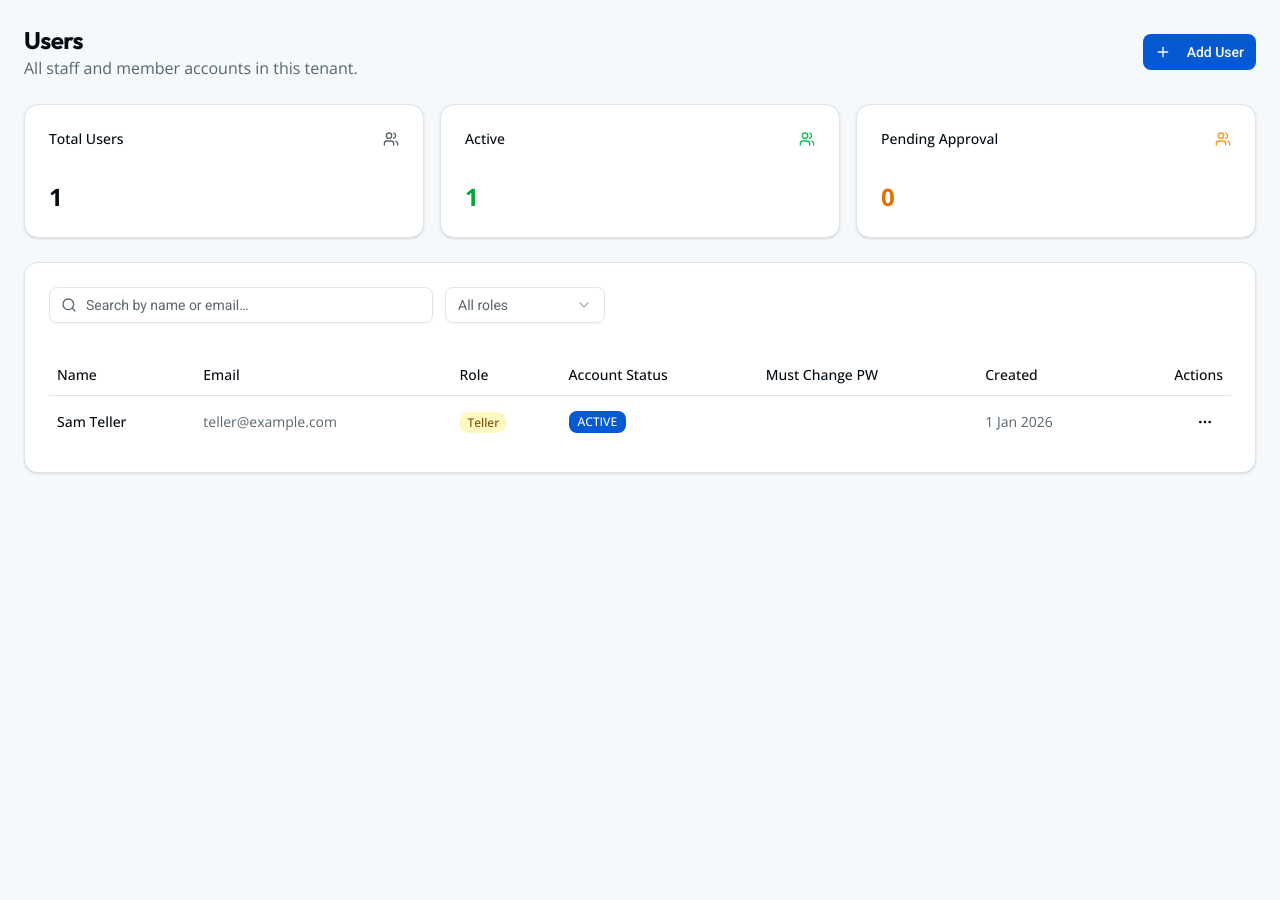
Test: Users page — Reveal Temp Password gating and flow › renders the 'already set their own password' case inline instead of a generic error
The image size is (1280, 900).
expect the text "Sam Teller" is shown: met, box [49,395,195,448]
Press the mouse on the 2nd button: [1205, 422] box [1187,404,1223,440]
Click the 2nd button: [1205, 422] box [1187,404,1223,440]
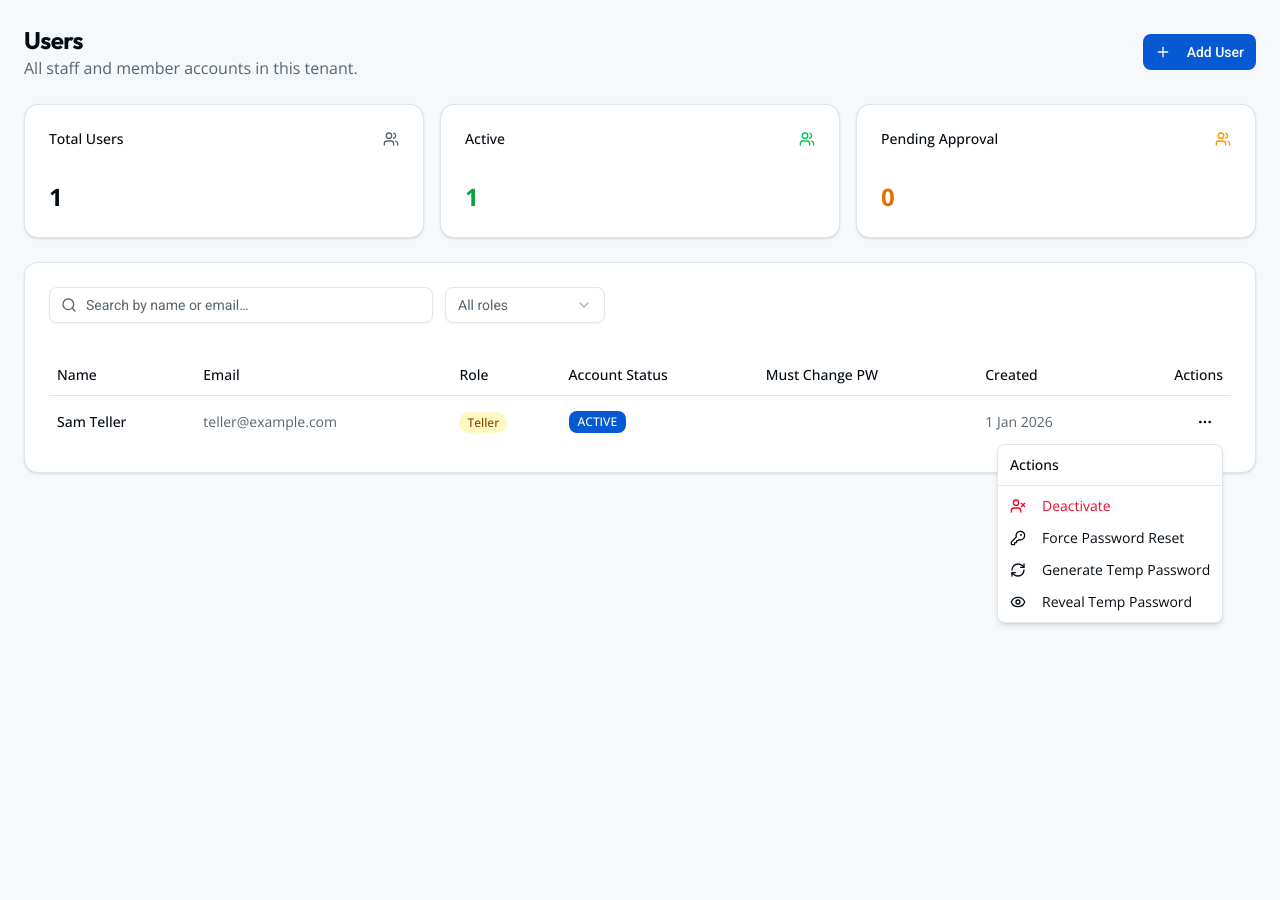
Click the menu item "Reveal Temp Password": [1101, 602] box [1010,592,1192,611]
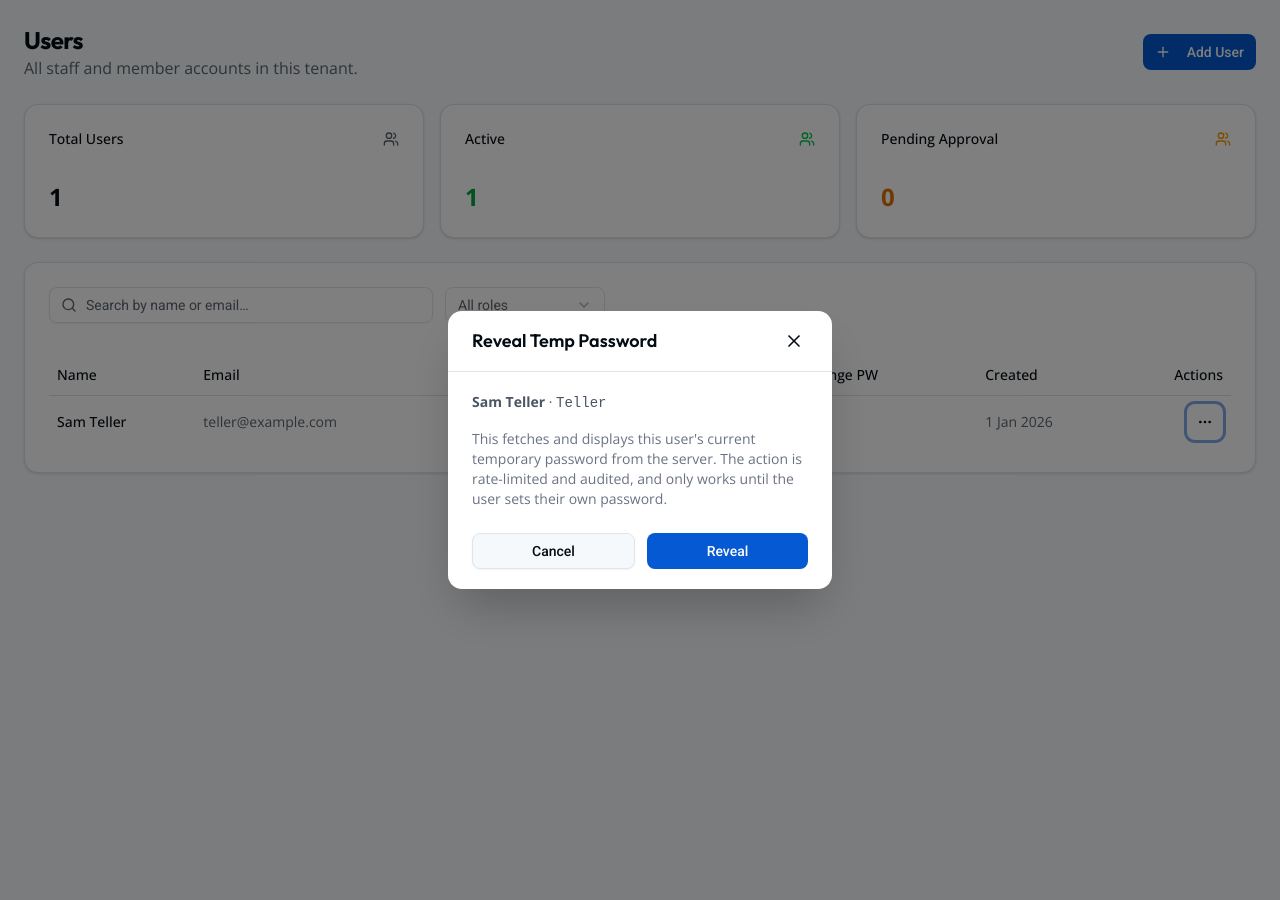
Click the button "Reveal": [728, 551] box [647,533,808,569]
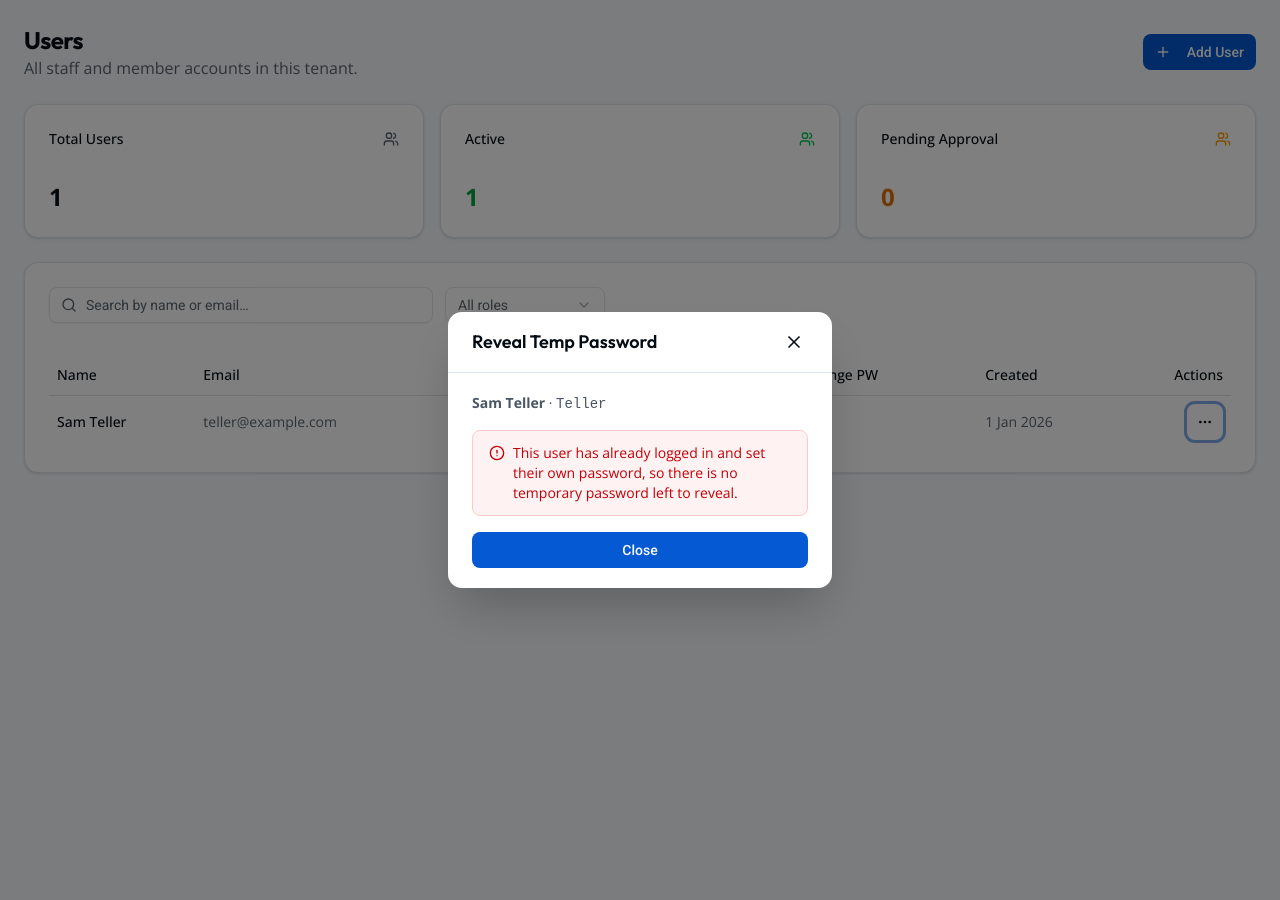
expect the text "already logged in and set their own password" is shown: met, box [513,443,765,502]
